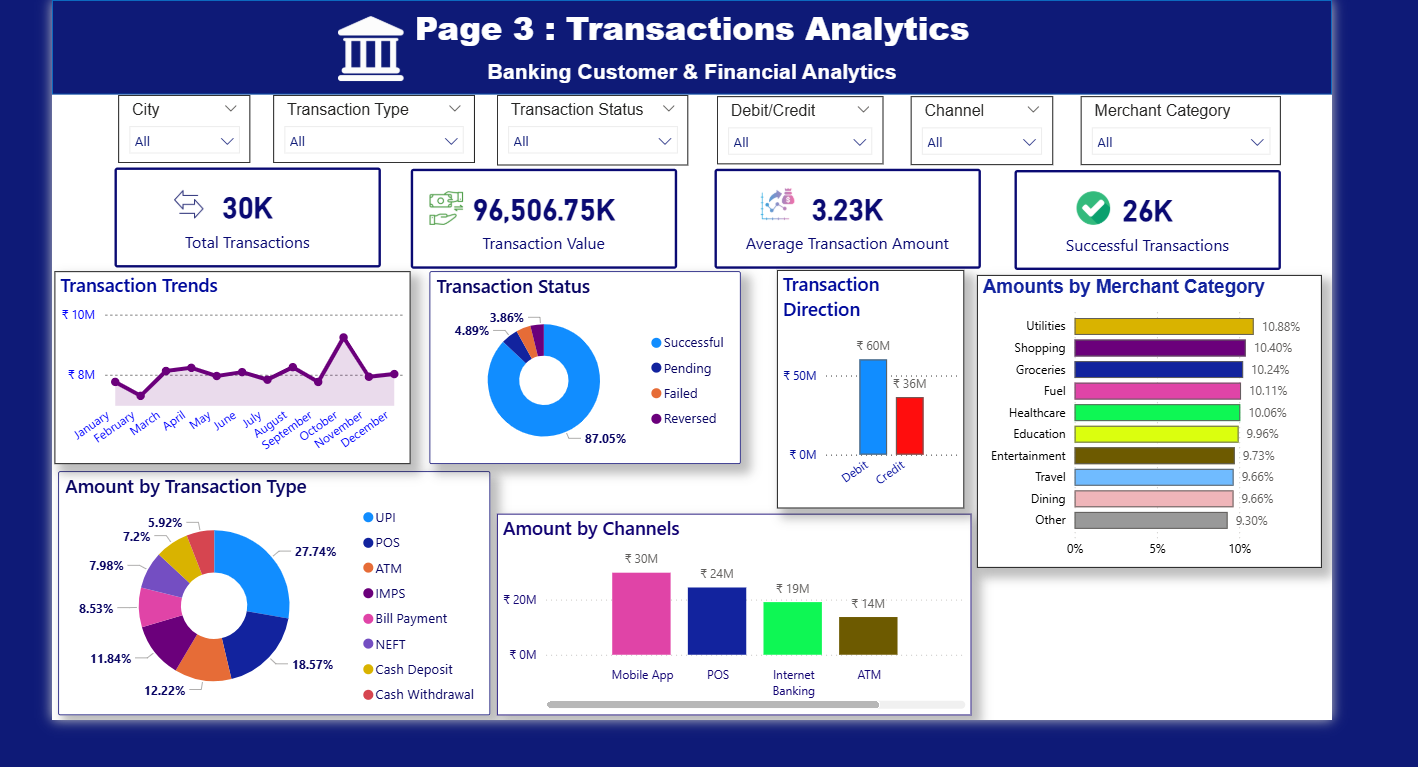

Layout of this report page (visuals, bound fields, positions):
{"tool":"powerbi","page":{"name":"Transactions  Analytics","canvas":[1280,720],"ordinal":2},"visuals":[{"type":"shape","box":[0,0,1280,94.7],"z":0},{"type":"textbox","box":[0,0,1280.3,55],"z":1000},{"type":"textbox","box":[0,55,1280.3,40.4],"z":2000},{"type":"image","box":[270.2,15.7,97.7,65.1],"z":3000},{"type":"slicer","title":"Month","fields":{"Values":["customers_cleaned.city"]},"box":[66,95.2,132.4,67.6],"z":4000},{"type":"slicer","title":"Month","fields":{"Values":["transactions_cleaned.transaction_type"]},"box":[221,95.2,201.4,67.6],"z":5000},{"type":"slicer","title":"Month","fields":{"Values":["transactions_cleaned.transaction_status"]},"box":[444.9,95.2,191.5,70.4],"z":6000},{"type":"slicer","title":"Month","fields":{"Values":["transactions_cleaned.transaction_direction"]},"box":[664.6,96.6,166.2,67.6],"z":7000},{"type":"slicer","title":"Month","fields":{"Values":["transactions_cleaned.channel"]},"box":[859,96.6,142.3,69],"z":8000},{"type":"card","fields":{"Values":["transactions_cleaned.Successful Transactions"]},"box":[962,170.4,266.2,100],"z":9000},{"type":"card","fields":{"Values":["transactions_cleaned.Average Transaction Amount"]},"box":[662,169,266.2,100],"z":10000},{"type":"donutChart","title":"Amount by Transaction Type","fields":{"Category":["transactions_cleaned.transaction_type"],"Y":["Sum(transactions_cleaned.transaction_amount)"]},"box":[5.6,471.8,432.4,243.7],"z":11000},{"type":"clusteredColumnChart","title":"Amount by Channels","fields":{"Category":["transactions_cleaned.channel"],"Y":["Sum(transactions_cleaned.transaction_amount)"]},"box":[445.1,514.1,474.6,201.4],"z":12000},{"type":"donutChart","title":"Transaction Status","fields":{"Category":["transactions_cleaned.transaction_status"],"Y":["CountNonNull(transactions_cleaned.transaction_id)"]},"box":[377.5,271.8,311.3,193],"z":13000},{"type":"columnChart","title":"Transaction Direction","fields":{"Category":["transactions_cleaned.transaction_direction"],"Y":["Sum(transactions_cleaned.transaction_amount)"]},"box":[725.4,270.4,187.3,238],"z":14000},{"type":"slicer","title":"Month","fields":{"Values":["transactions_cleaned.merchant_category"]},"box":[1028.2,95.8,200,69],"z":15000},{"type":"card","fields":{"Values":["transactions_cleaned.Total Transactions"]},"box":[62.6,167.6,266.2,100],"z":16000},{"type":"image","box":[119.7,187.3,33.8,33.8],"z":17000},{"type":"card","fields":{"Values":["transactions_cleaned.Transaction Value"]},"box":[359,169,266.2,100],"z":18000},{"type":"image","box":[377.5,191.5,33.8,33.8],"z":19000},{"type":"clusteredBarChart","title":"Amounts by Merchant Category","fields":{"Category":["transactions_cleaned.merchant_category"],"Y":["Sum(transactions_cleaned.transaction_amount)"]},"box":[925.3,275.1,345,293.2],"z":20000},{"type":"lineChart","title":"Transaction Trends","fields":{"Y":["Sum(transactions_cleaned.transaction_amount)"],"Category":["transactions_cleaned.transaction_date.Variation.Date Hierarchy.Month"]},"box":[2.8,271.8,356.3,193],"z":21000},{"type":"image","box":[708.2,187,33.8,33.8],"z":22000},{"type":"image","box":[1024.3,191.8,35,33.8],"z":23000}]}

Visuals, with their boxes in screenshot pixels (x1, y1, x2, y2):
shape: BBox(41, 0, 1339, 89)
textbox: BBox(41, 0, 1340, 48)
textbox: BBox(41, 48, 1340, 89)
image: BBox(315, 9, 414, 75)
"Month" slicer: BBox(108, 89, 242, 158)
"Month" slicer: BBox(265, 89, 469, 158)
"Month" slicer: BBox(492, 89, 686, 161)
"Month" slicer: BBox(715, 91, 884, 159)
"Month" slicer: BBox(912, 91, 1057, 161)
card - transactions_cleaned.Successful Transactions: BBox(1017, 166, 1287, 267)
card - transactions_cleaned.Average Transaction Amount: BBox(712, 164, 983, 266)
"Amount by Transaction Type" donutChart: BBox(46, 471, 485, 719)
"Amount by Channels" clusteredColumnChart: BBox(492, 514, 974, 719)
"Transaction Status" donutChart: BBox(424, 268, 740, 464)
"Transaction Direction" columnChart: BBox(777, 267, 967, 509)
"Month" slicer: BBox(1084, 90, 1287, 160)
card - transactions_cleaned.Total Transactions: BBox(104, 163, 374, 264)
image: BBox(162, 183, 196, 217)
card - transactions_cleaned.Transaction Value: BBox(405, 164, 675, 266)
image: BBox(424, 187, 458, 221)
"Amounts by Merchant Category" clusteredBarChart: BBox(980, 272, 1330, 569)
"Transaction Trends" lineChart: BBox(43, 268, 405, 464)
image: BBox(759, 182, 794, 217)
image: BBox(1080, 187, 1116, 222)
